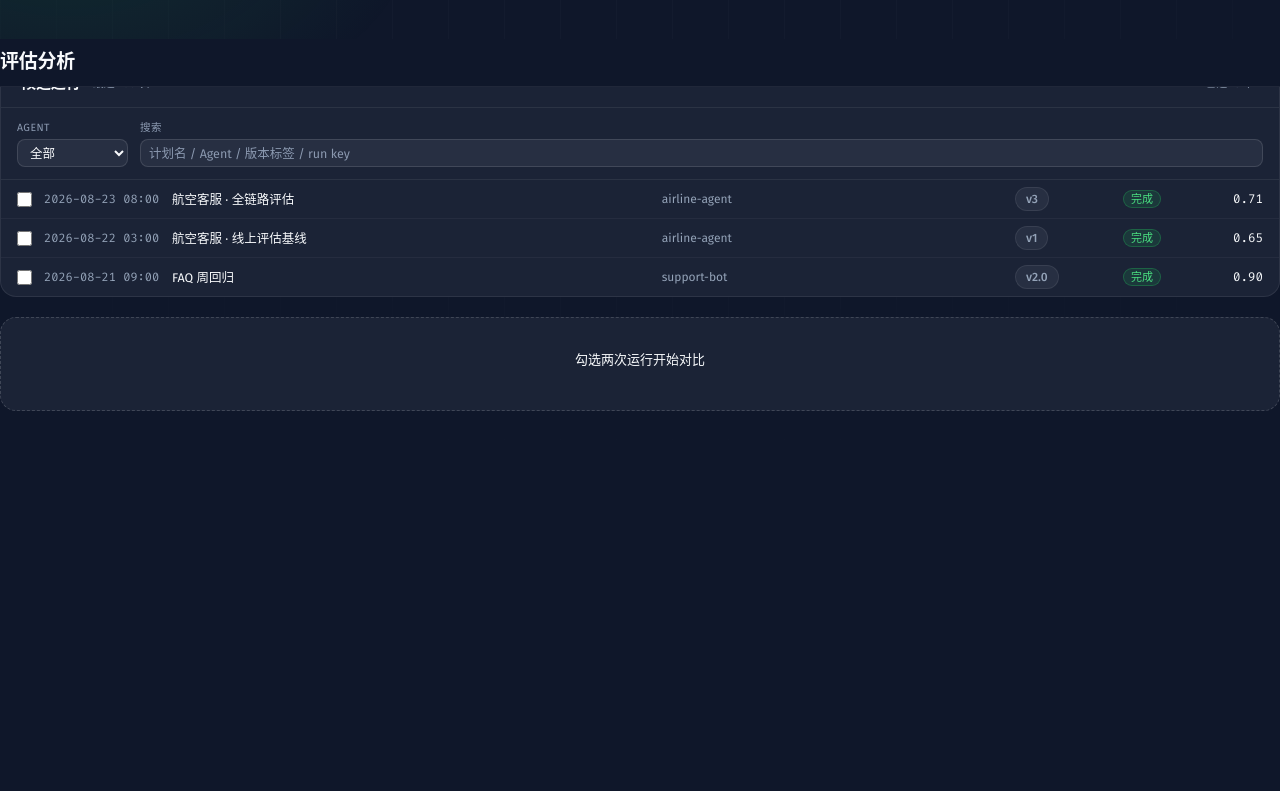
Test: 对比页：跨方案选两条 › 口径披露：两个方案跑的不是同一批题 → blocking；判分模型恒「未记录」
Check: the list with test id "compare-list" is shown, box left=1, top=180, right=1279, bottom=296
What coordinates should you click on to do the following:
click the list item "2026-08-22 03:00 航空客服 · 线上评估基线 airline-agent v1 完成 0.65"
I would click on:
 (102, 238)
Its box is left=1, top=218, right=1279, bottom=257.
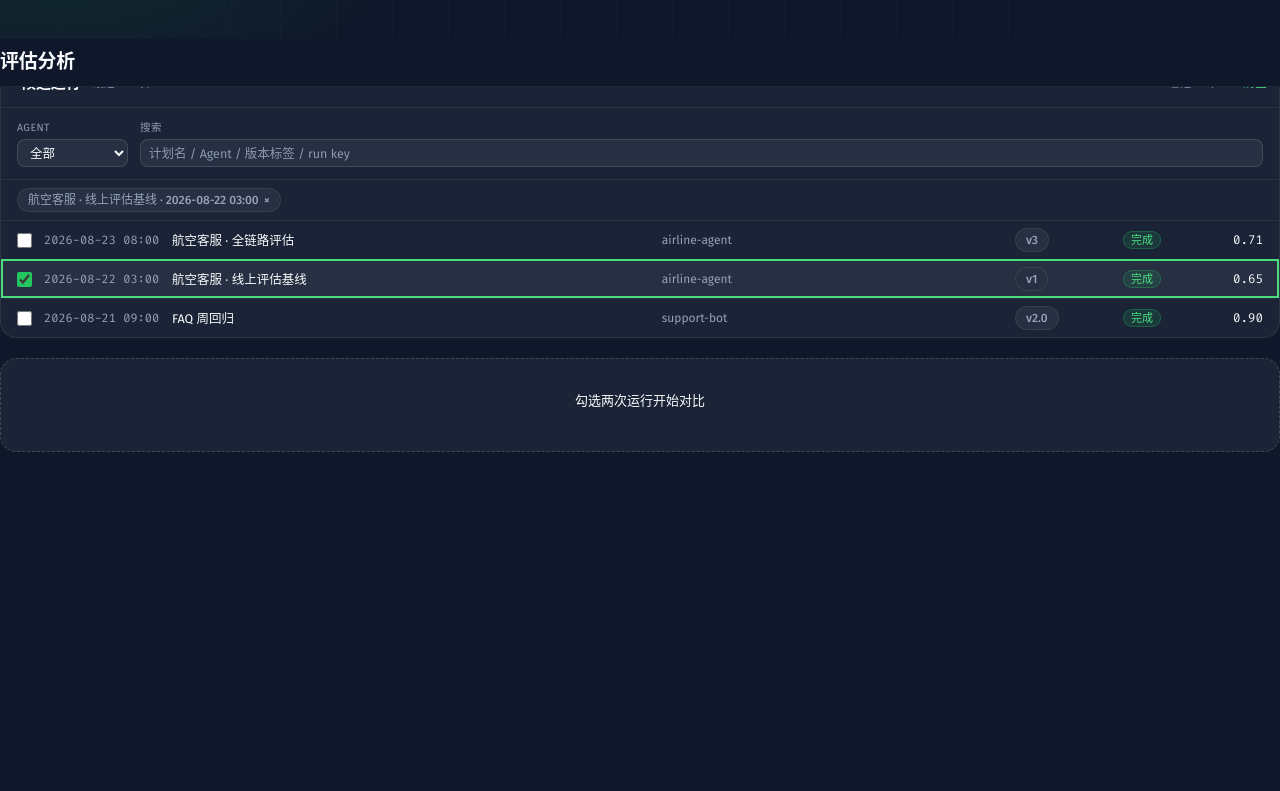
What coordinates should you click on to do the following:
click the list item "2026-08-23 08:00 航空客服 · 全链路评估 airline-agent v3 完成 0.71"
I would click on:
 (102, 240)
Its box is left=1, top=221, right=1279, bottom=259.
(page scrolled)
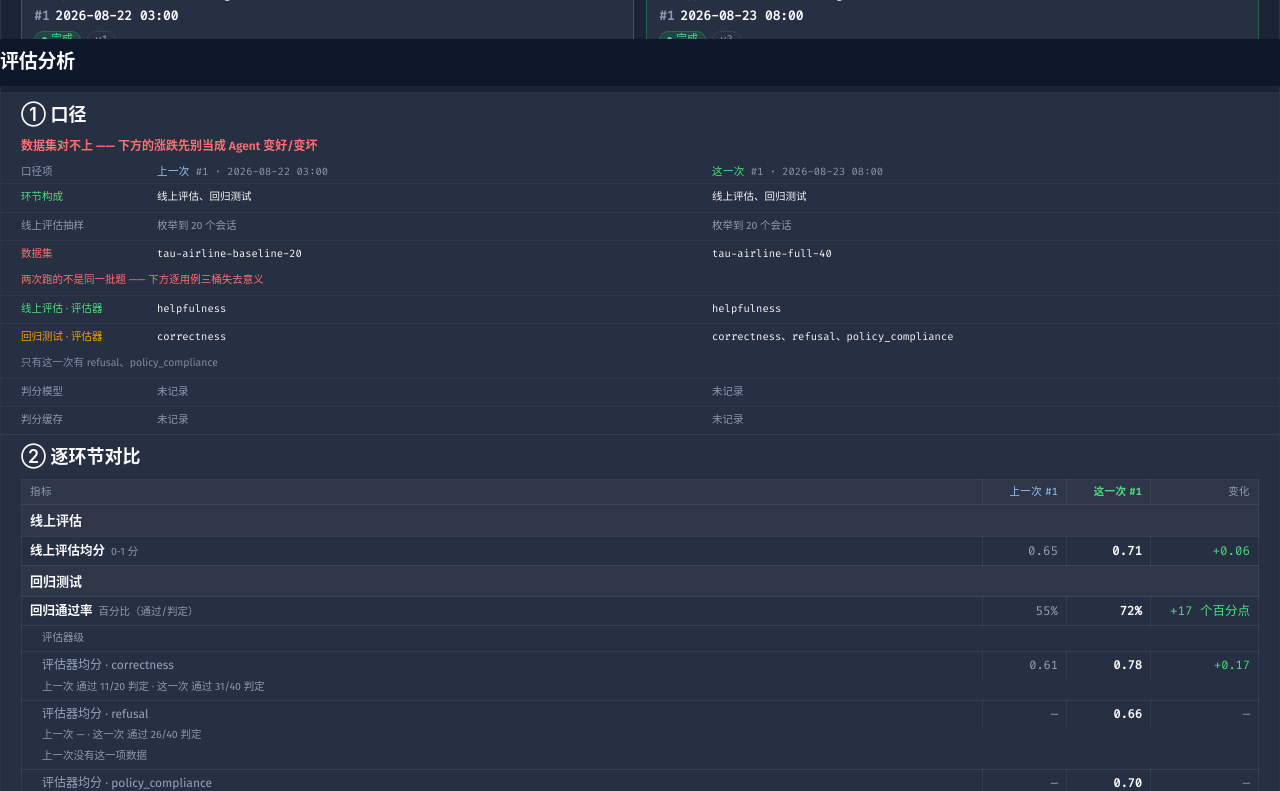
Check: the text with test id "plan-compare-cal-dataset-a" reads "tau-airline-baseline-20", box left=157, top=247, right=302, bottom=260
Check: the text with test id "plan-compare-cal-dataset-b" reads "tau-airline-full-40", box left=712, top=247, right=832, bottom=260
Check: the element with test id "plan-compare-cal-dataset" shows "两次跑的不是同一批题", box left=21, top=273, right=264, bottom=286
